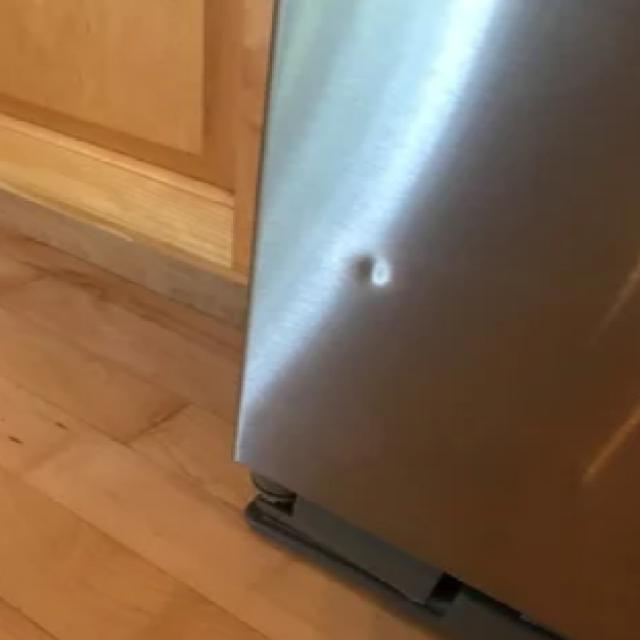dents: (325, 240, 434, 319)
